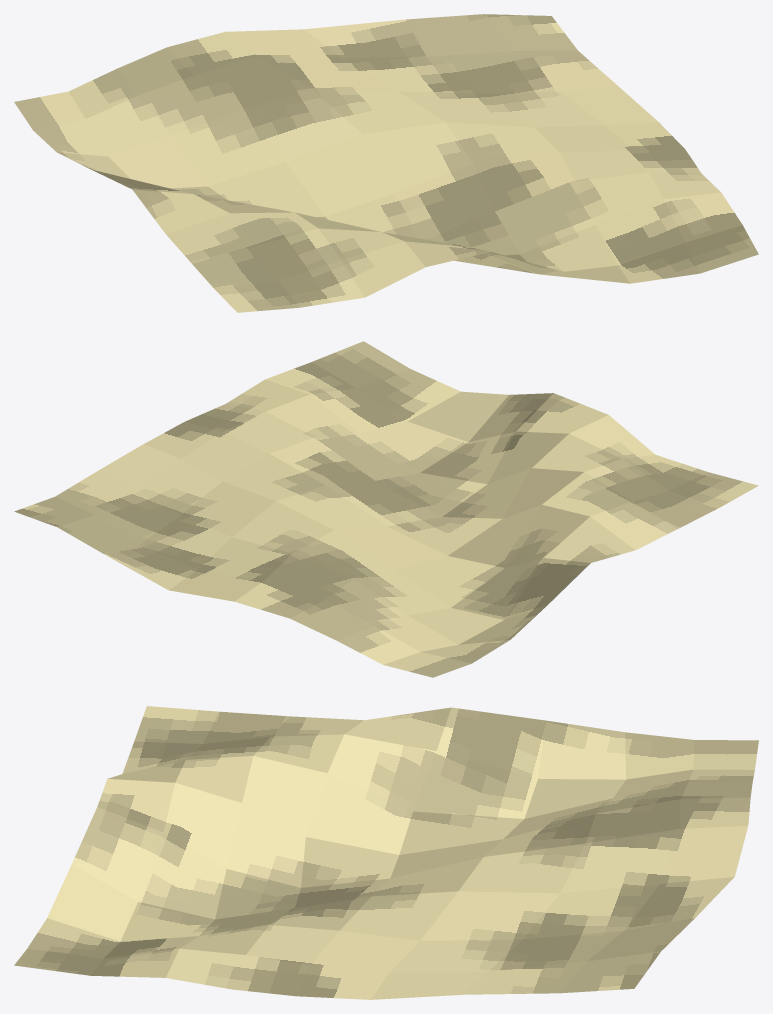
File: Cloth.fbx
3 views of the same model, one above another, from view 1: azimuth 30°, elevation 25°; view 2: azimuth 150°, elevation 25°; view 3: azimuth 270°, elevation 25° (orthographic). The views are drawn at different scales.
Parts seen in each view (by area): view 1: Cloth; view 2: Cloth; view 3: Cloth.
Boxes of the visible parts, x1,y1,x2,y2 form: Cloth: (14, 14, 758, 312); Cloth: (14, 341, 758, 677); Cloth: (14, 706, 758, 999).
Size of the model in its own units: 1.71 by 0.193 by 1.87.
